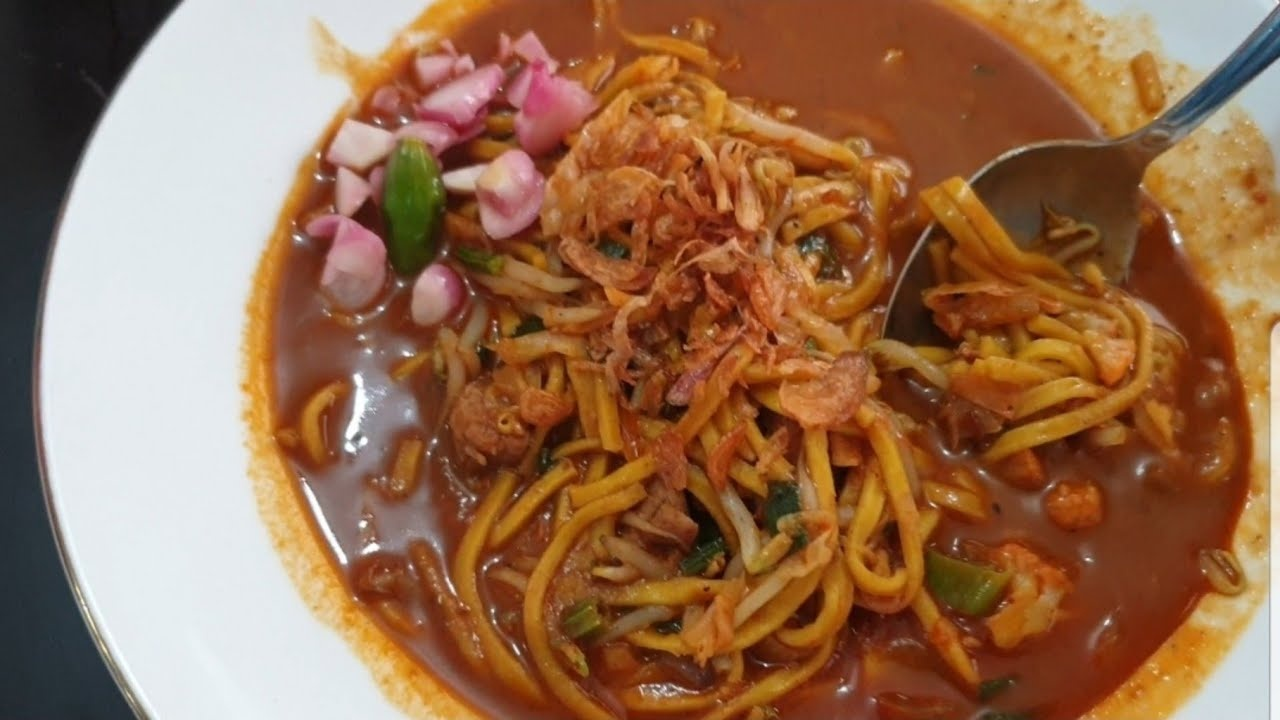mie_aceh: (281, 3, 1250, 720)
